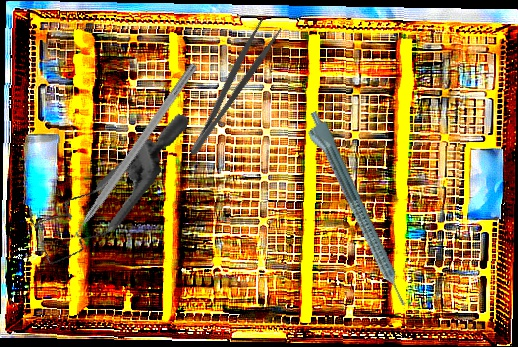Chopper: (51, 54, 200, 253)
Dressing Forceps: (176, 15, 284, 159)
Handpiece: (298, 108, 411, 313)
Speculum: (16, 80, 190, 292)
